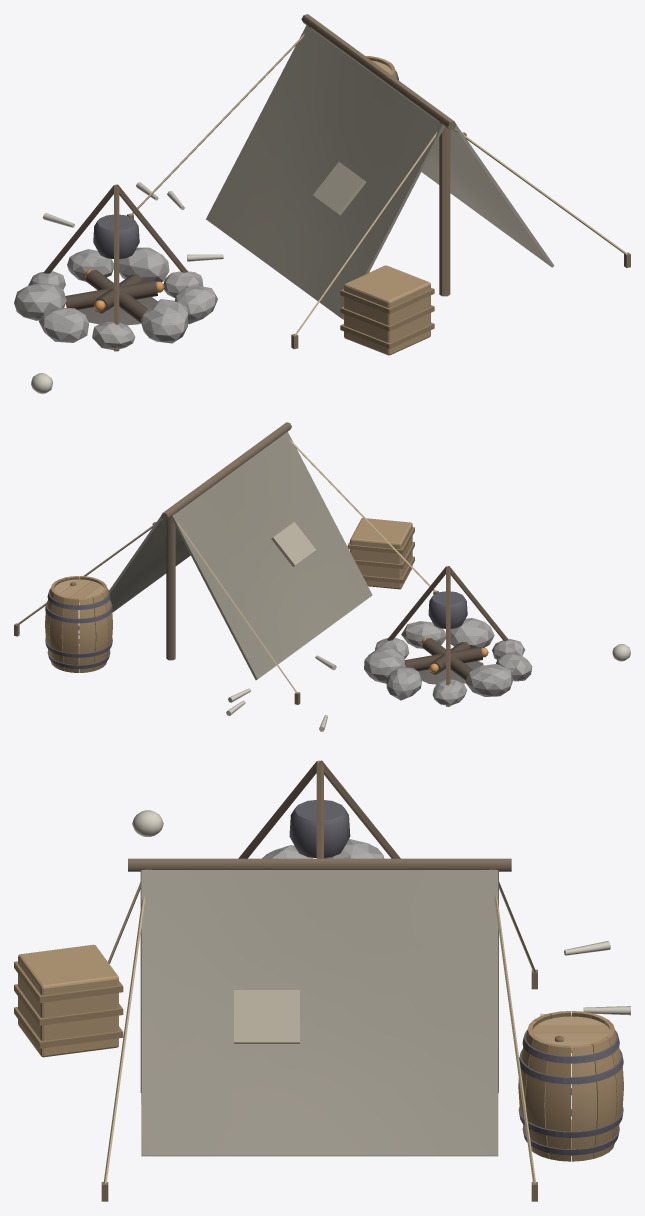
Rendered from camp.glb.
The picture shows the model from 3 angles, top to bottom: view 1: azimuth 30°, elevation 25°; view 2: azimuth 150°, elevation 25°; view 3: azimuth 270°, elevation 25°; orthographic projection. The views are drawn at different scales.
Visible parts, largest first — view 1: camp; view 2: camp; view 3: camp.
Part boxes in pixels (left/top/right/bottom): camp: left=14, top=14, right=630, bottom=393; camp: left=14, top=422, right=630, bottom=731; camp: left=14, top=760, right=630, bottom=1201.
Size of the model in its own units: 6.63 by 1.97 by 4.66.
